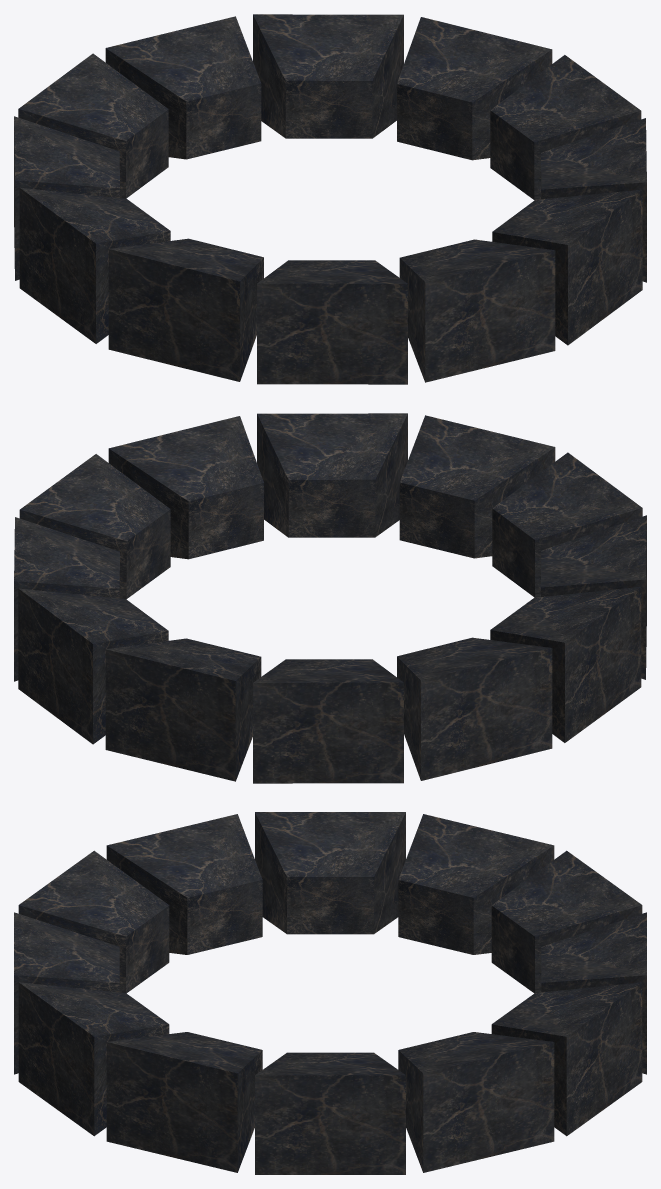
File: DecoCamp.fbx
The picture shows the model from 3 angles, top to bottom: view 1: azimuth 30°, elevation 25°; view 2: azimuth 150°, elevation 25°; view 3: azimuth 270°, elevation 25°; orthographic projection.
Visible parts, largest first — view 1: Cube; view 2: Cube; view 3: Cube.
Part boxes in pixels (<box>): Cube: <box>14,14,646,384</box>; Cube: <box>14,413,646,783</box>; Cube: <box>14,812,646,1174</box>.
Bounding box in the file's own units: 1181 × 208 × 1200.
1 material, 1 textured.
